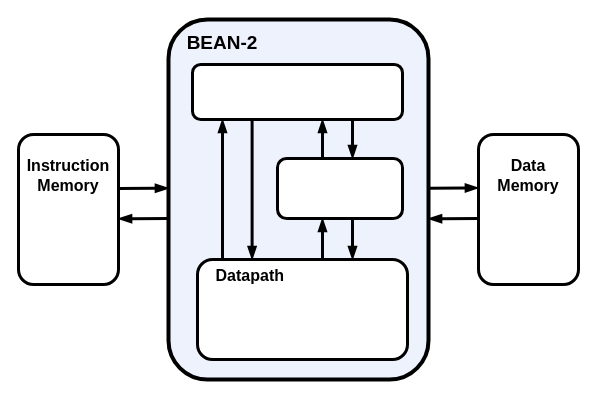
Image size: 597x398. Some labels were removed from this diagram. Here are the shapes that lost their labels. From the top down, the box of each, then its label:
(190, 62, 404, 120): Hazard Unit
(276, 156, 404, 220): Control Unit
